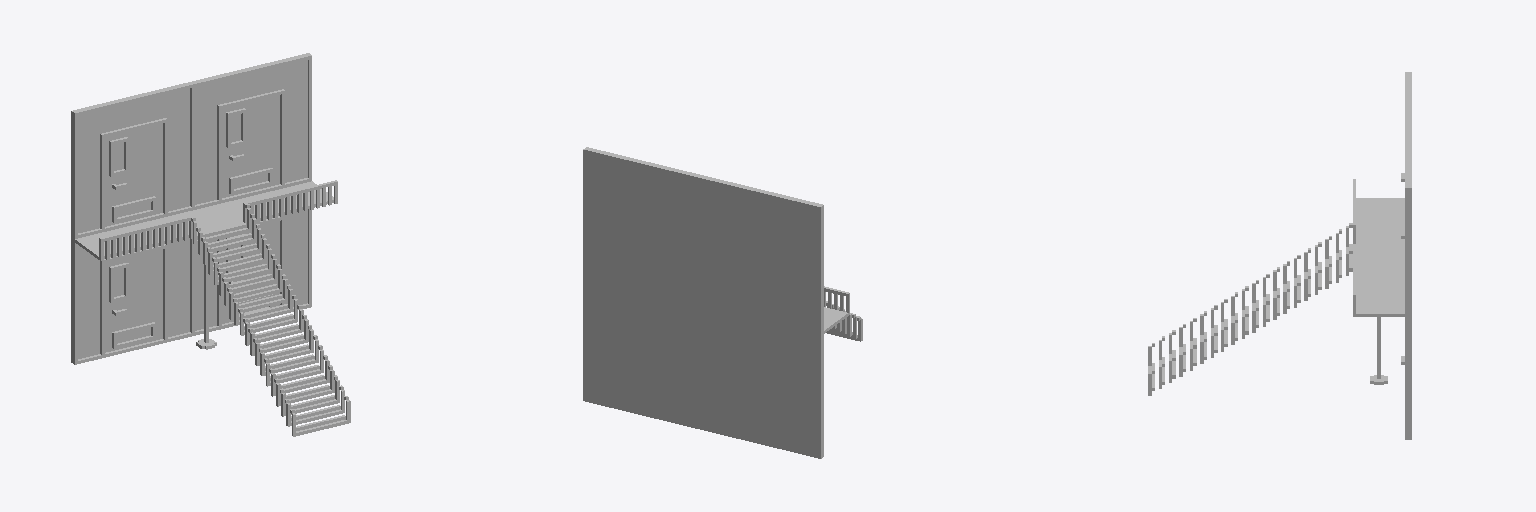
Rendered from 40x40 with cell X axis moved.obj.
3 views of the same model, side by side, from view 1: azimuth 30°, elevation 25°; view 2: azimuth 150°, elevation 25°; view 3: azimuth 270°, elevation 25° (orthographic).
Visible parts, largest first — view 1: ObjObject; view 2: ObjObject; view 3: ObjObject.
Boxes of the visible parts, box(x1,y1,x2,y2) form: ObjObject: box(71, 53, 350, 436); ObjObject: box(583, 147, 862, 458); ObjObject: box(1148, 72, 1411, 439).
Size of the model in its own units: 7.9 by 8 by 7.6.